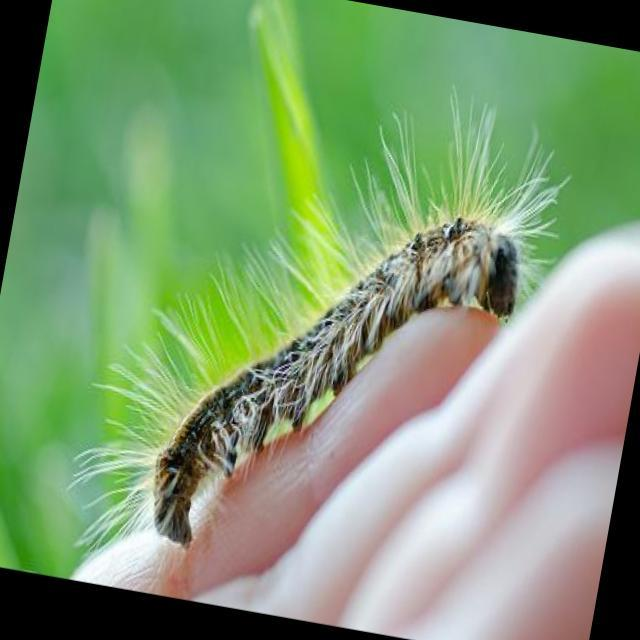Plaga: (56, 17, 586, 625)
